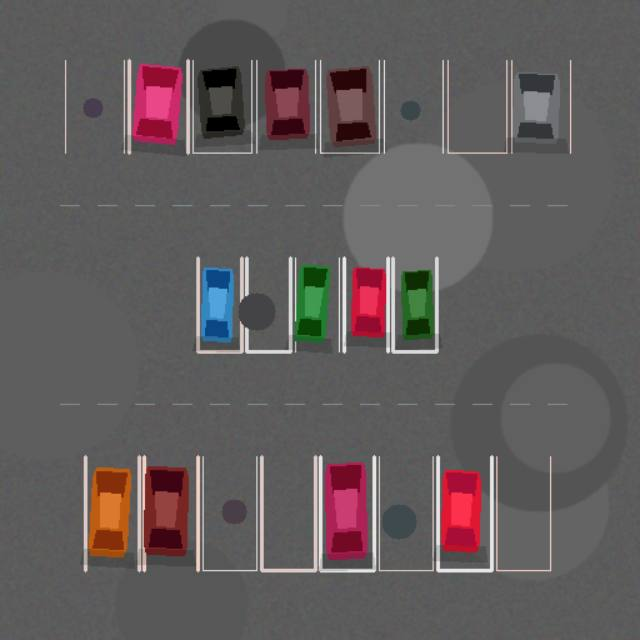space-empty: (202, 456, 256, 570), (261, 456, 315, 570), (496, 456, 550, 570), (379, 456, 432, 570), (65, 60, 124, 153), (384, 60, 443, 153), (447, 60, 506, 153), (246, 258, 290, 351)
space-occupied: (85, 456, 139, 570), (144, 456, 198, 570), (320, 456, 374, 570), (438, 456, 491, 570), (256, 60, 315, 153), (320, 60, 379, 153), (511, 60, 570, 153), (129, 60, 187, 153), (193, 60, 251, 153), (197, 258, 241, 351), (295, 258, 339, 351), (344, 258, 387, 351), (393, 258, 436, 351)
